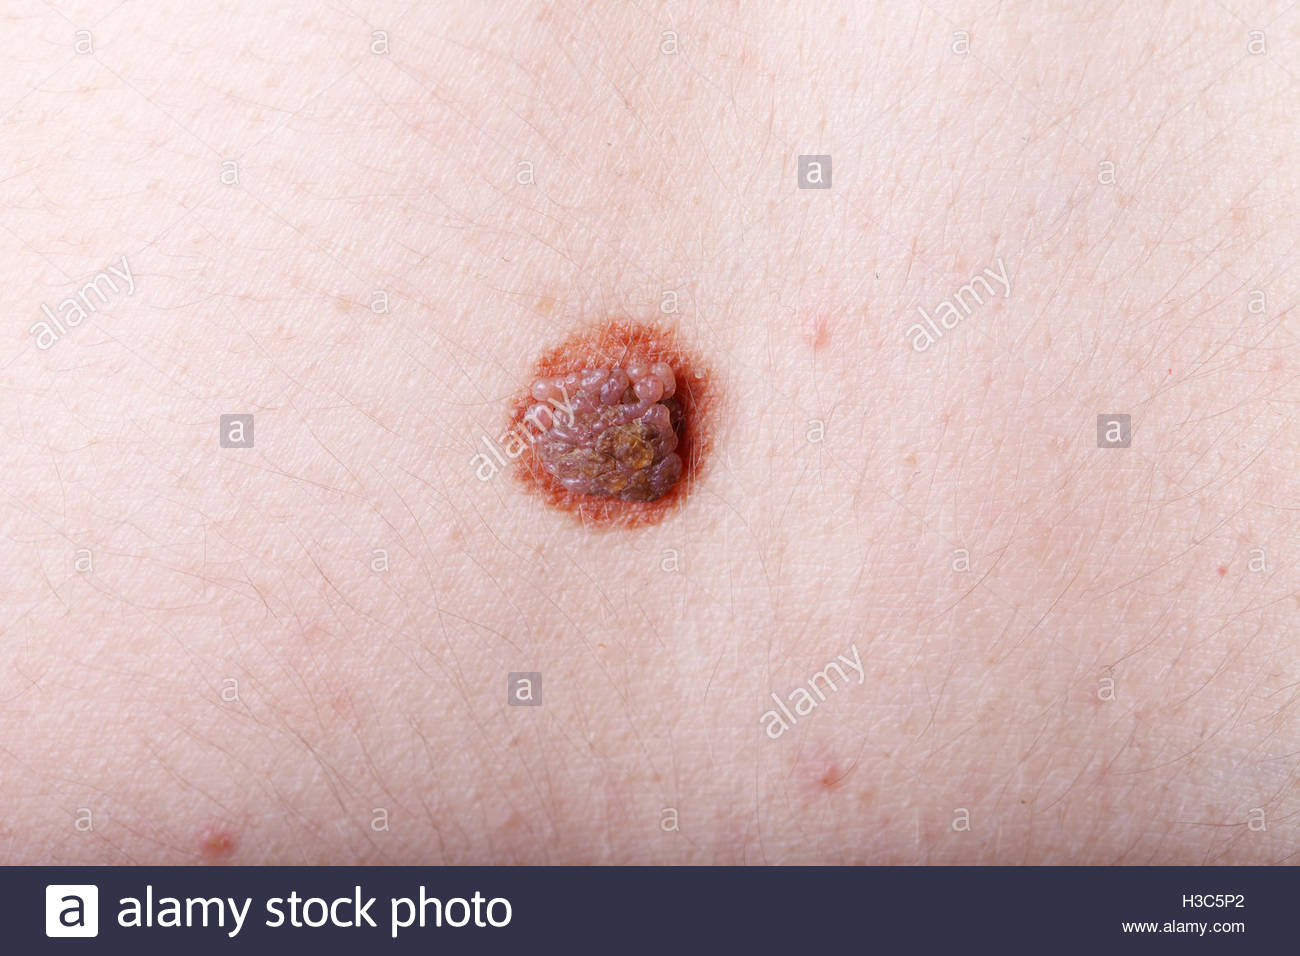melanoma: (412, 284, 764, 568)
